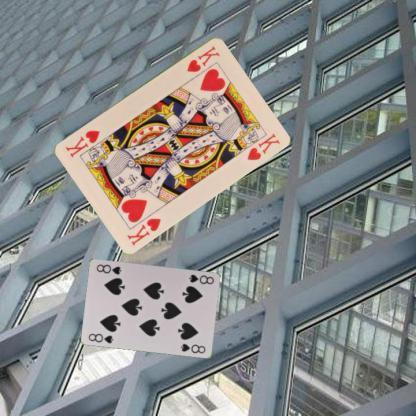8s: (186, 272, 216, 286), (86, 330, 115, 344)
Kh: (124, 215, 162, 247), (184, 42, 221, 74)
